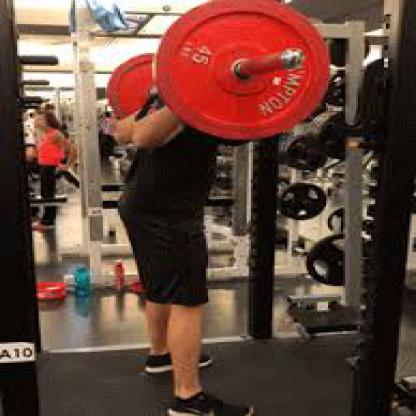Barbell: (148, 0, 338, 144)
